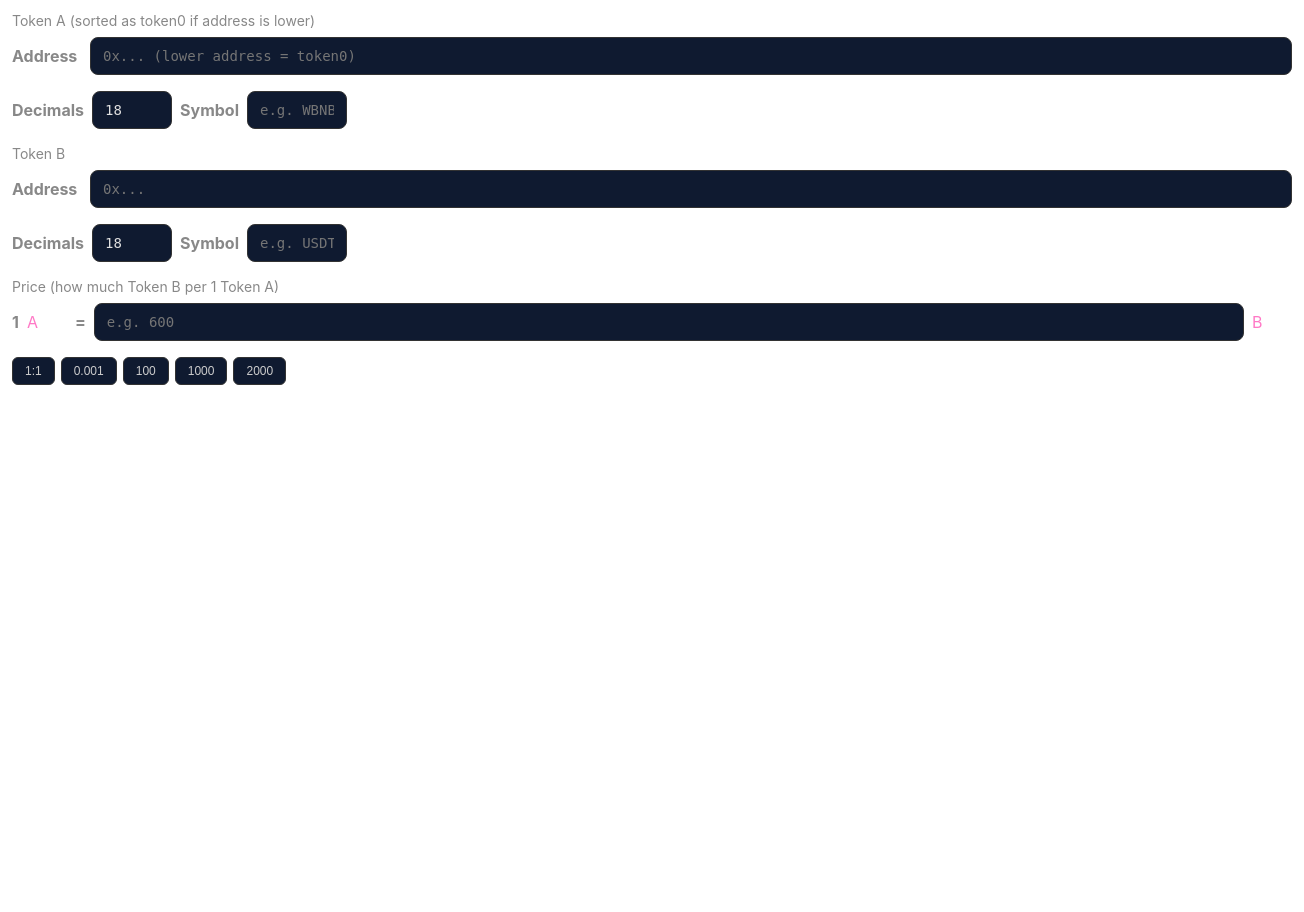
Test case: SqrtPriceX96 › price presets buttons work
In the field with placeholder "0x... (lower address = token0)": (691, 56) [90,37,1292,75], type "0x0000000000000000000000000000000000000001"
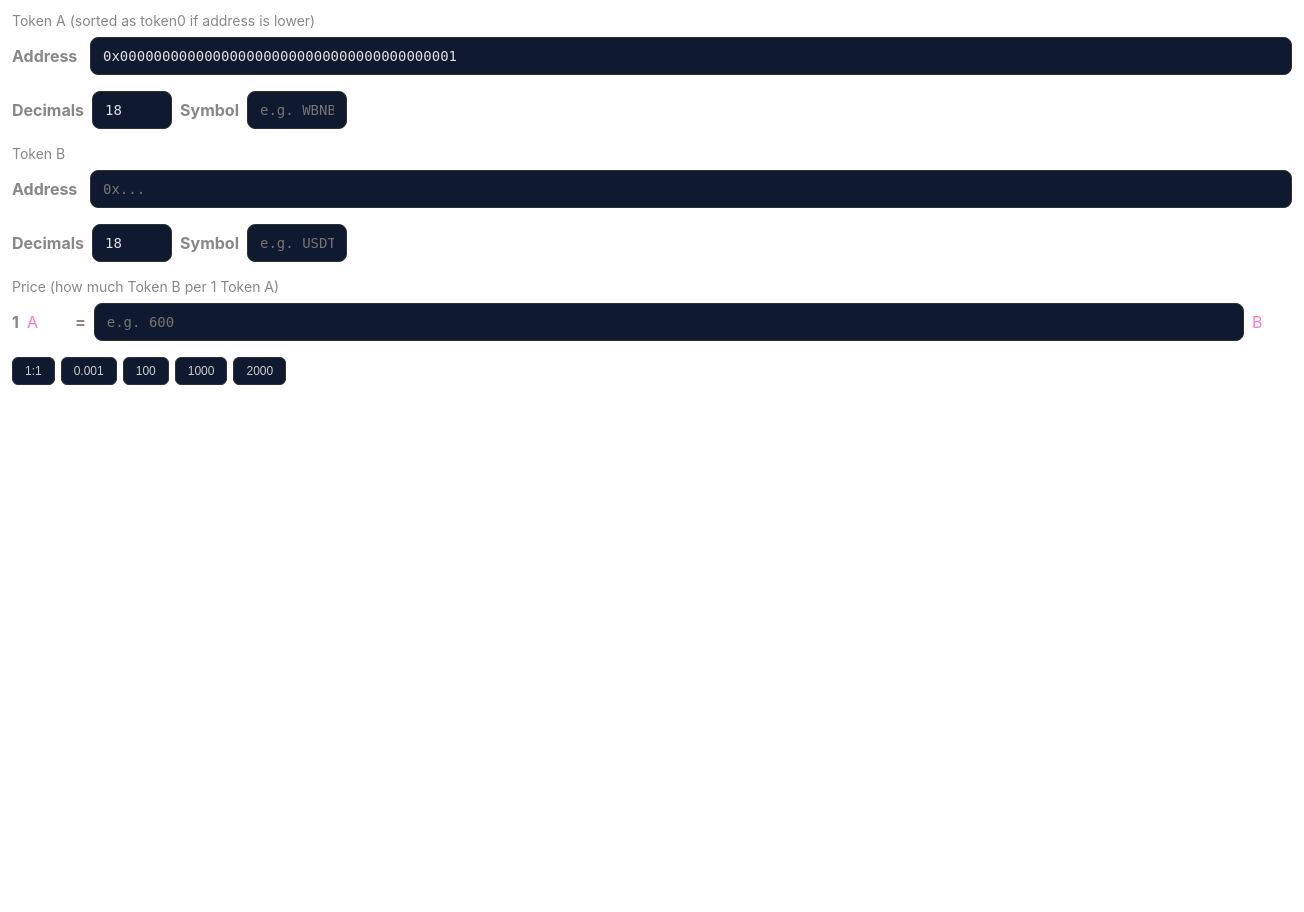
In the field with placeholder "0x...": (691, 189) [90,170,1292,208], type "0x0000000000000000000000000000000000000002"
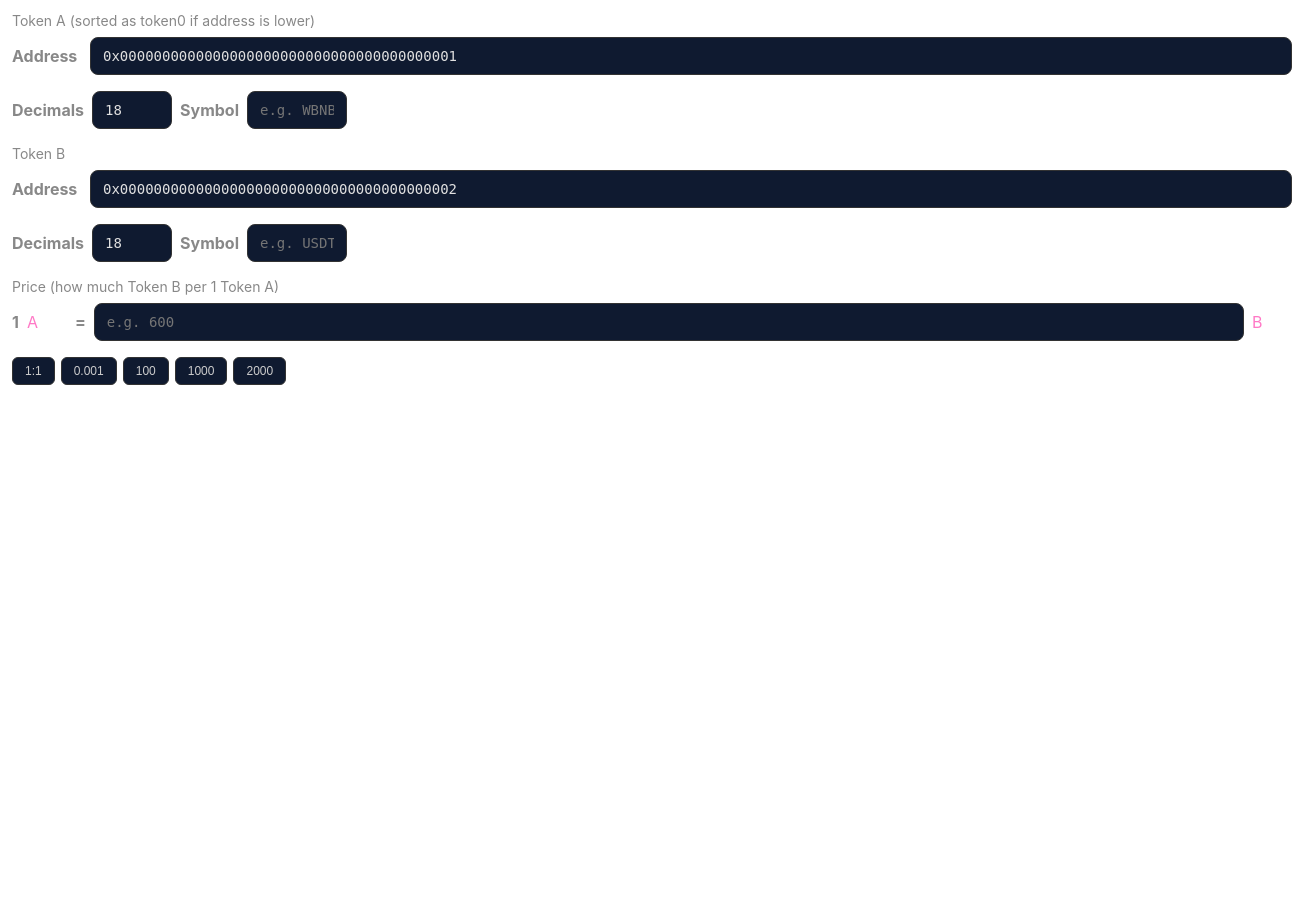
Click the button "1:1": (33, 371) [12,357,55,385]
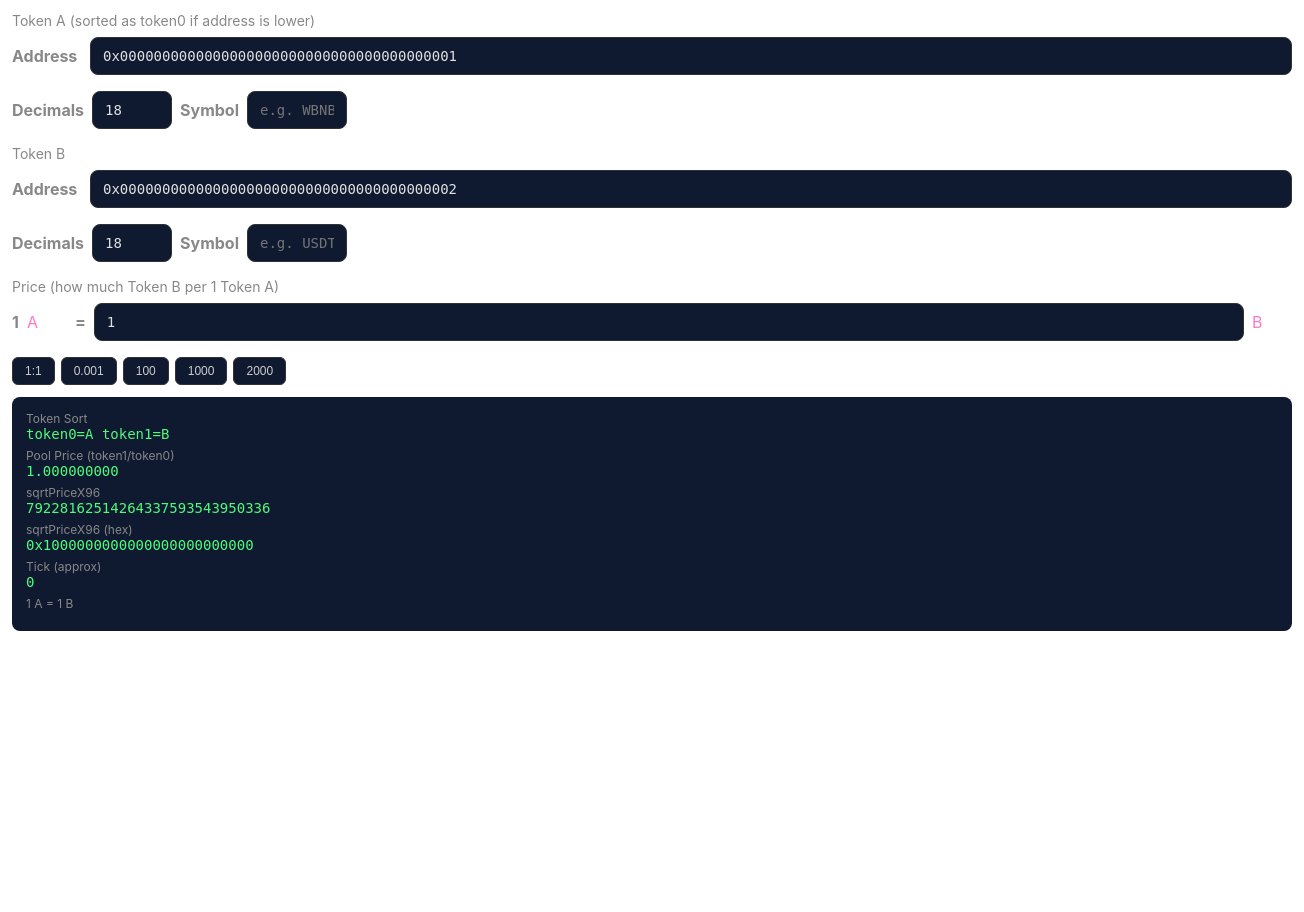
Check: the element with class "tool-result" is shown, box [12,397,1292,631]
Check: the text "sqrtPriceX96" is shown, box [26,485,100,500]
